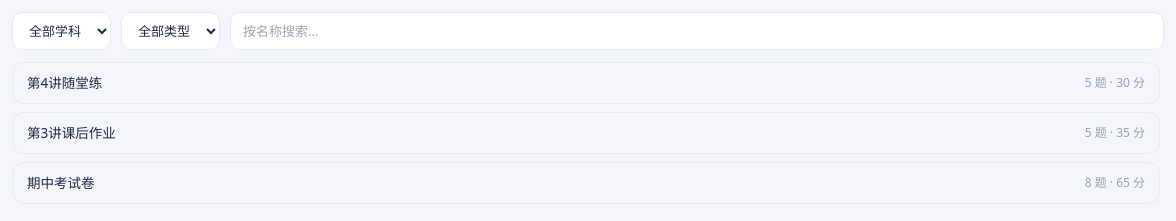
Test case: GroupedPicker · 选卷场景(学科›类型,无 kind 筛选) › 选学科=未归类 → 只留期中考试卷
Select "未归类" in the dropdown named "学科" at coordinates (62, 31), box x1=12 y1=12 x2=111 y2=50
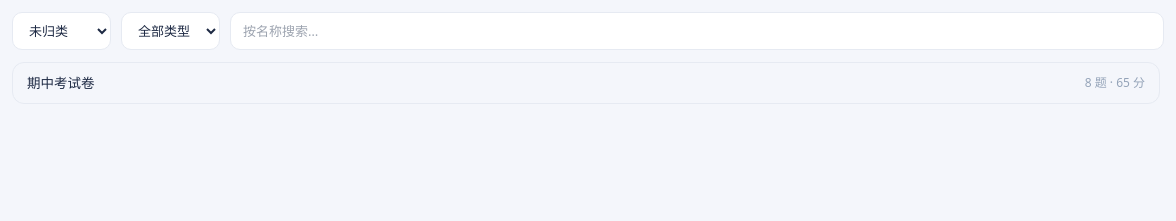
Expected: the text "期中考试卷" is shown, x1=27 y1=73 x2=94 y2=93
Result: the text "第4讲随堂练" is gone
